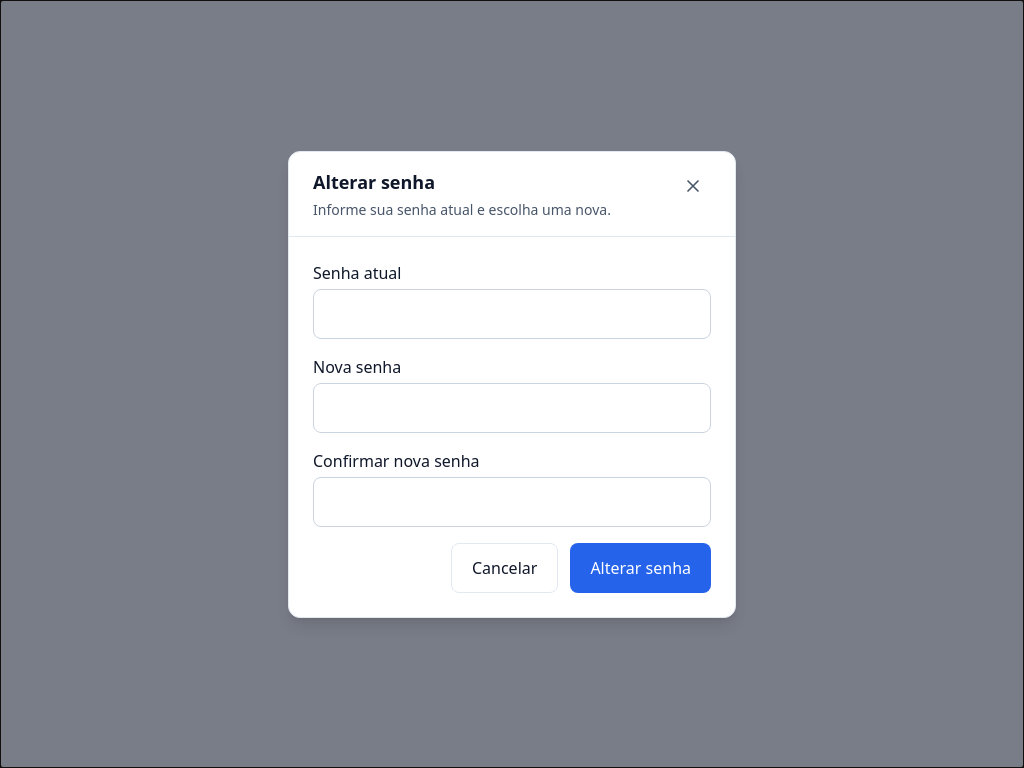
ChangePasswordModal › 429 mostra a mensagem do backend
Type "SenhaAtual1" into the password field labelled "Senha atual".
click(512, 314); type("SenhaAtual1")  # box [313, 288, 711, 338]
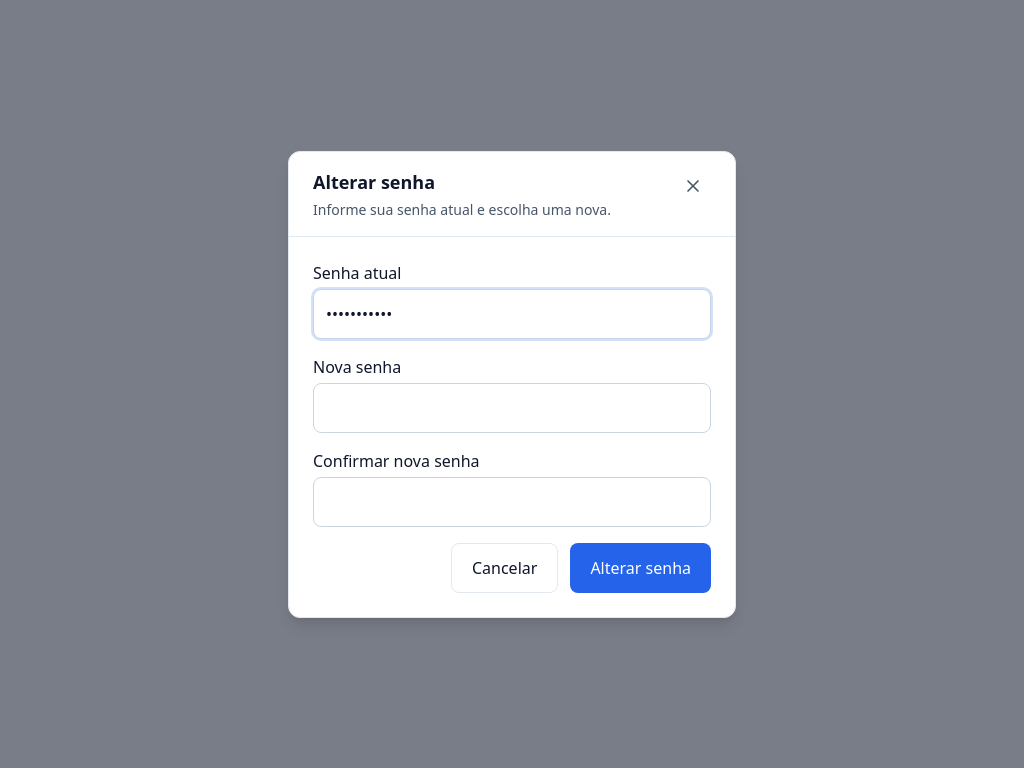
Type "NovaSenha123" into the password field labelled "Nova senha".
click(512, 408); type("NovaSenha123")  # box [313, 382, 711, 432]
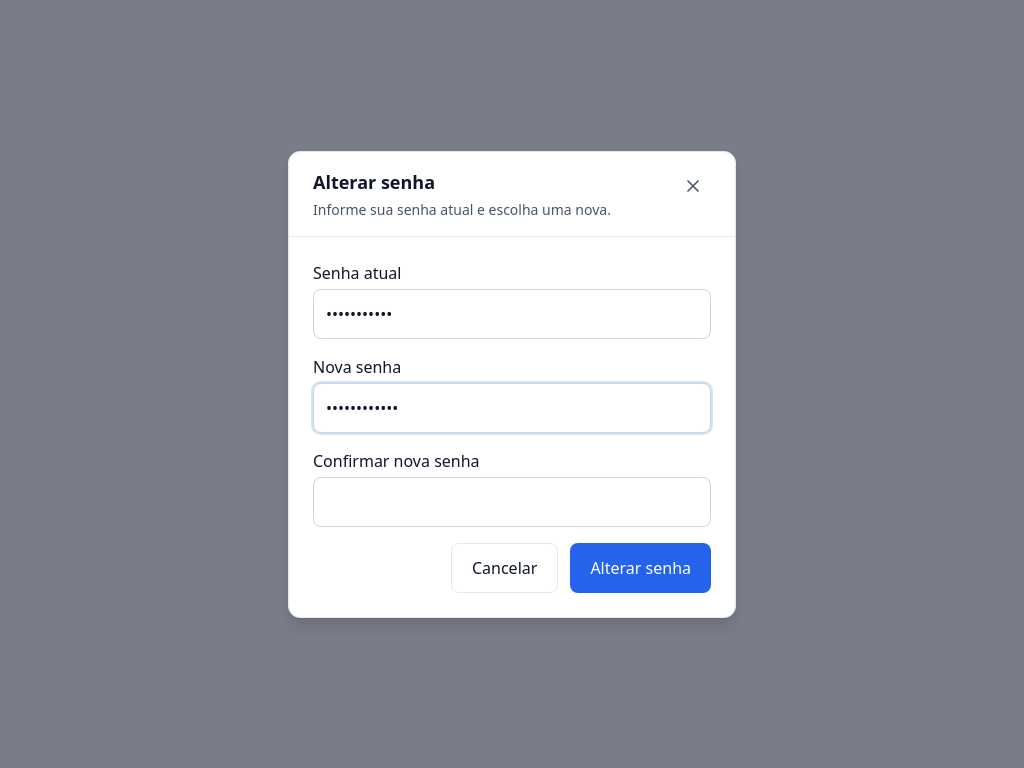
Type "NovaSenha123" into the password field labelled "Confirmar nova senha".
click(512, 502); type("NovaSenha123")  # box [313, 476, 711, 526]
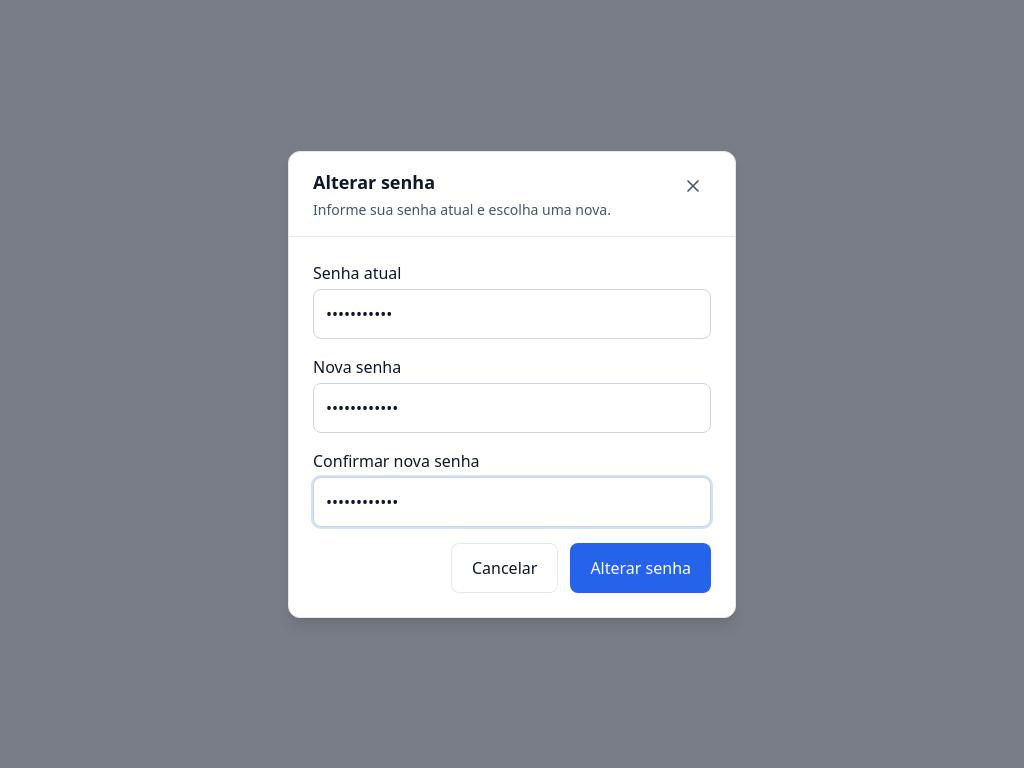
Click the button "Alterar senha".
click(641, 568)  # box [570, 542, 711, 592]
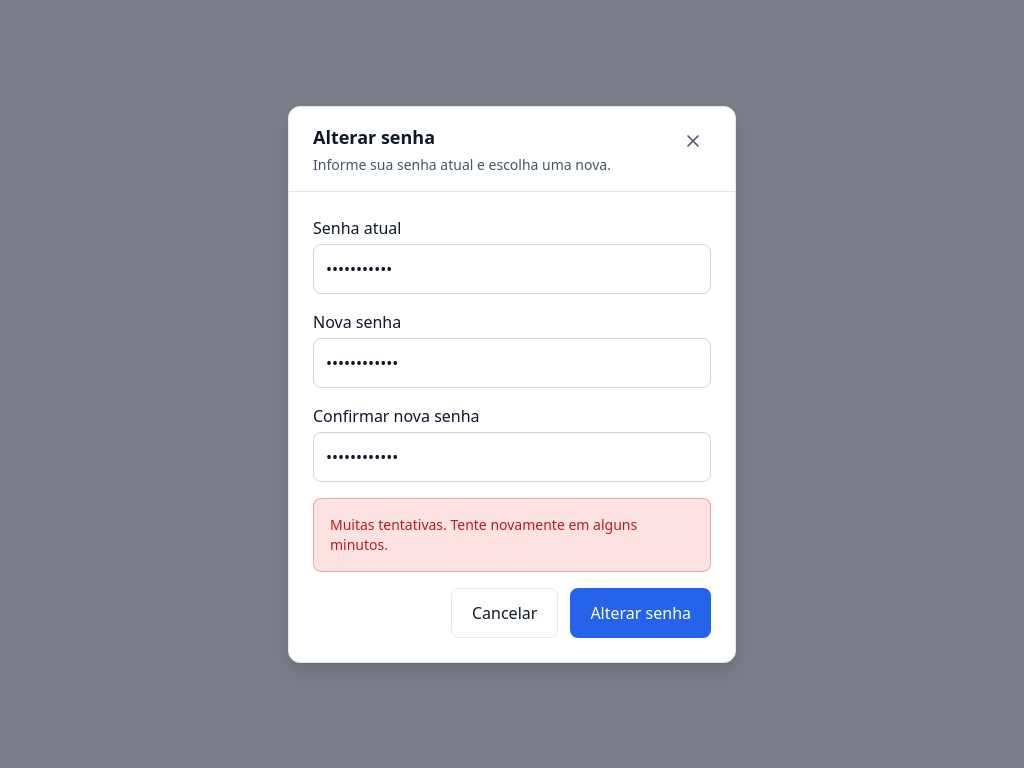
Check: the text "Muitas tentativas. Tente novamente em alguns minutos." is shown, box [313, 498, 711, 572]
